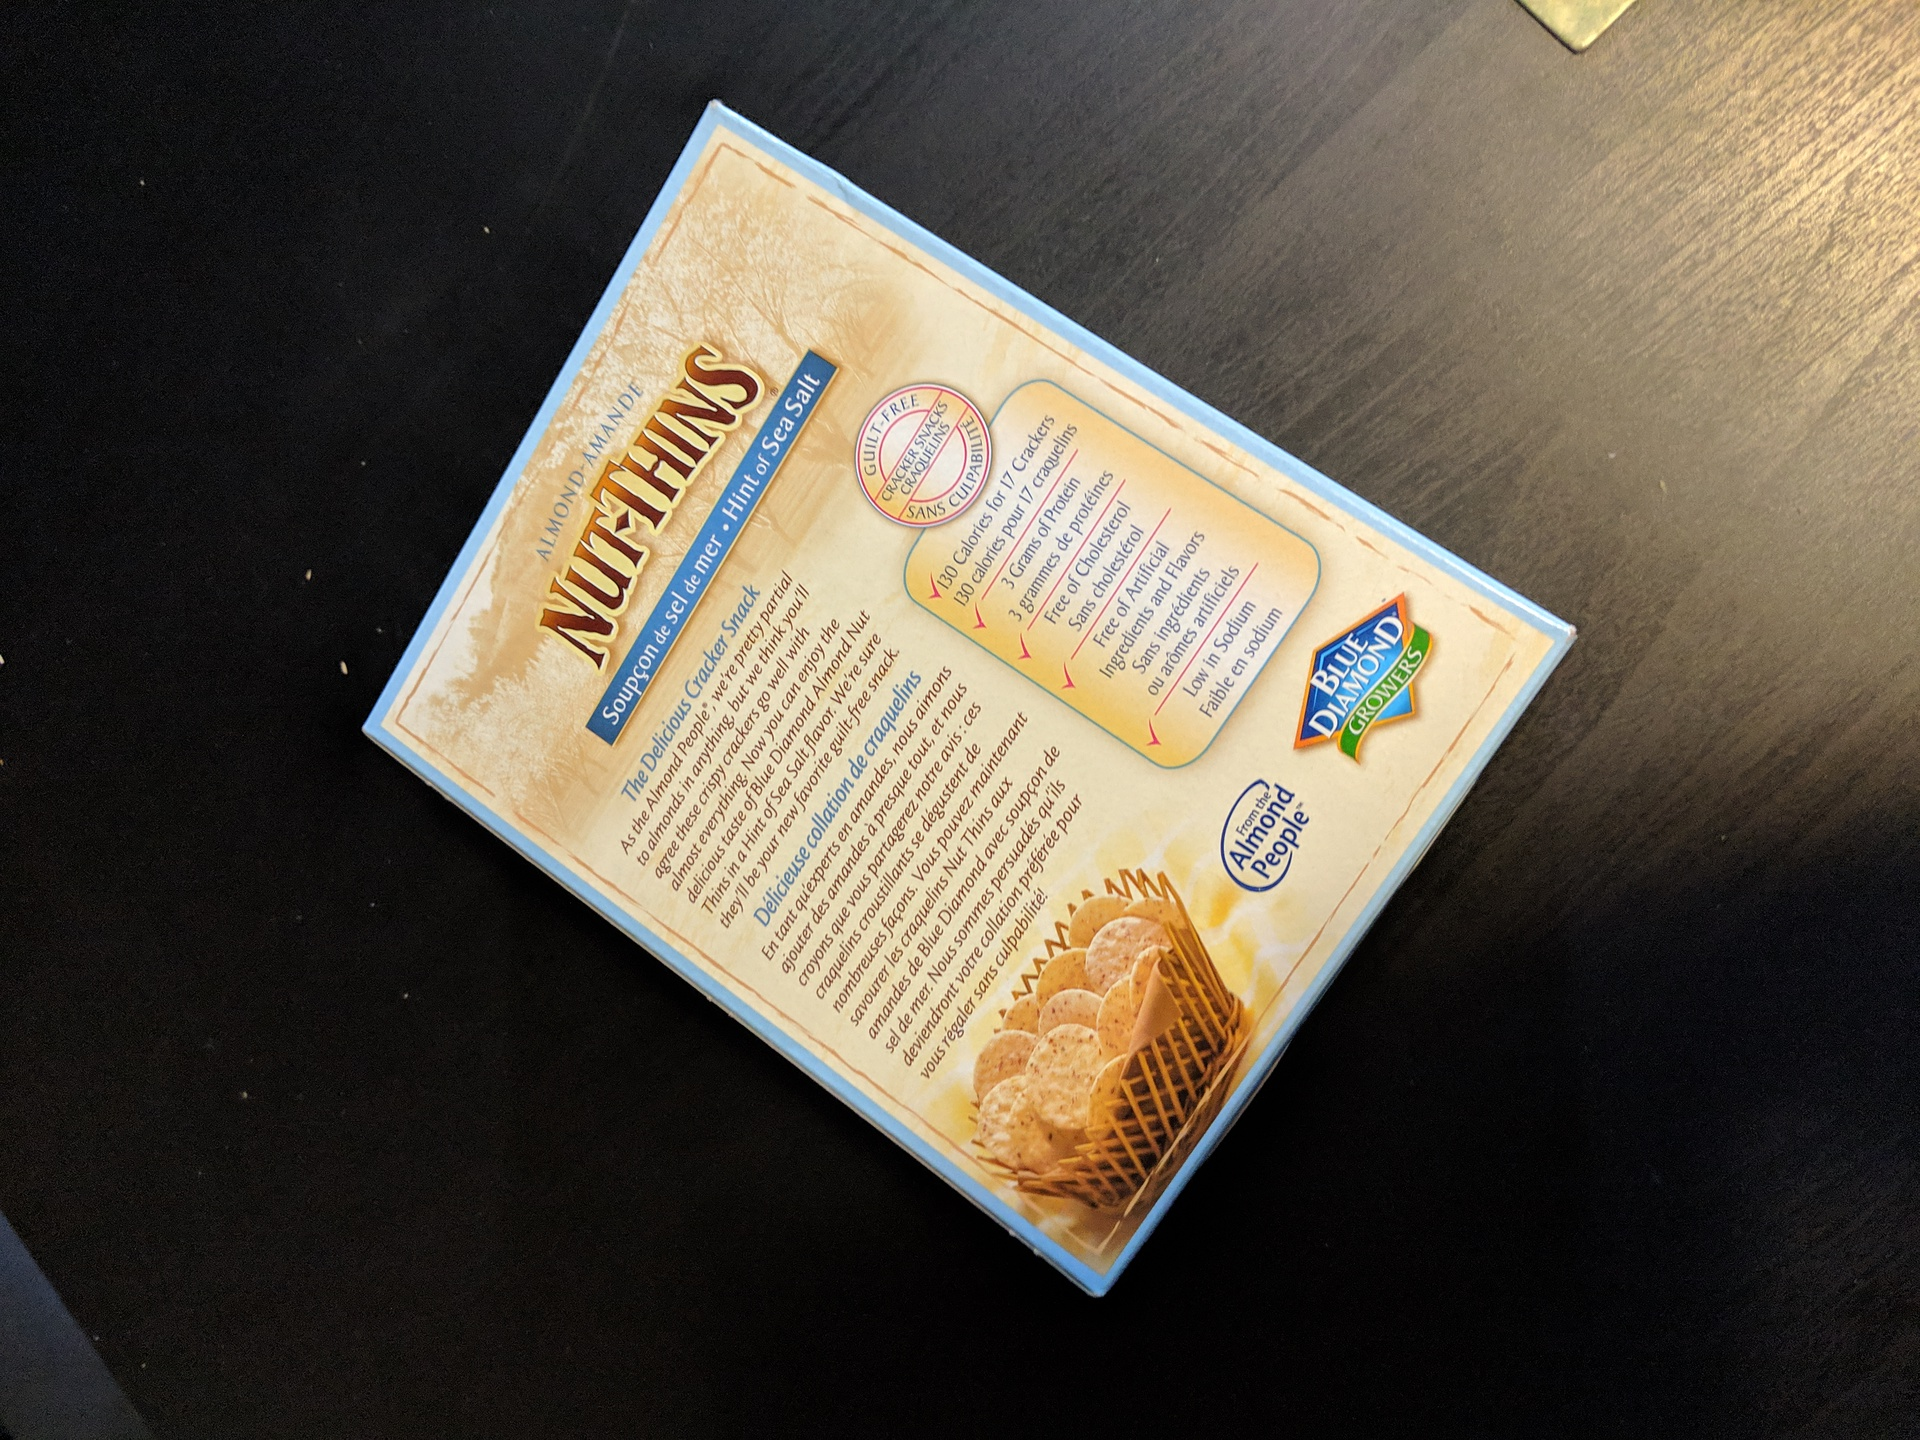blue_diamond_nut_thins_almond_seasalt: (469, 219, 1438, 1106)
